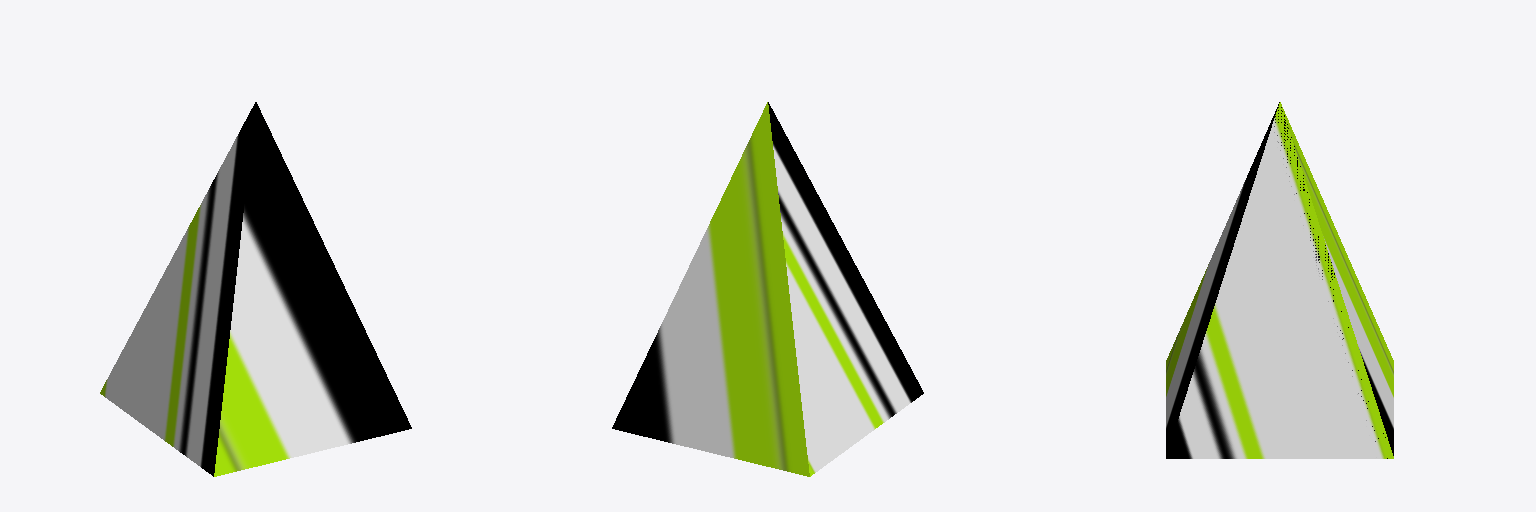
3 renders of one model, left to right at view 1: azimuth 30°, elevation 25°; view 2: azimuth 150°, elevation 25°; view 3: azimuth 270°, elevation 25°, orthographic.
Visible parts, largest first — view 1: Plane; view 2: Plane; view 3: Plane.
Boxes of the visible parts, box(x1,y1,x2,y2) form: Plane: box(100, 102, 411, 476); Plane: box(612, 102, 923, 476); Plane: box(1166, 102, 1393, 458).
Bounding box in the file's own units: 2 × 2.99 × 2.
Materials: 1 (1 with a texture image).